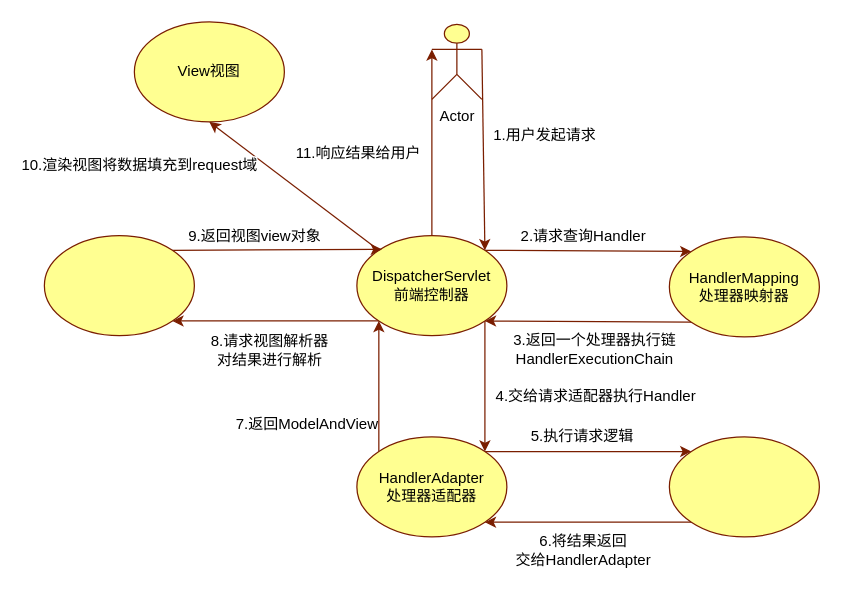
The diagram is 841 pixels wide and 590 high, and some of its shapes have lost their labels. The shapes that lost their labels are listed below. From the top down, each one's centre as x and y in pixels, then its label:
At point (118, 285): "ViewResolver 视图解析器".
At point (743, 486): "Handler处理器 即业务中的Controller".
